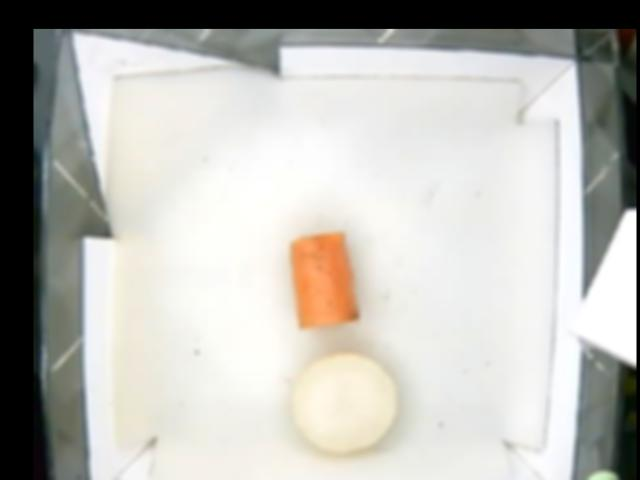Carrot: (287, 232, 359, 328)
China: (291, 352, 400, 451)
